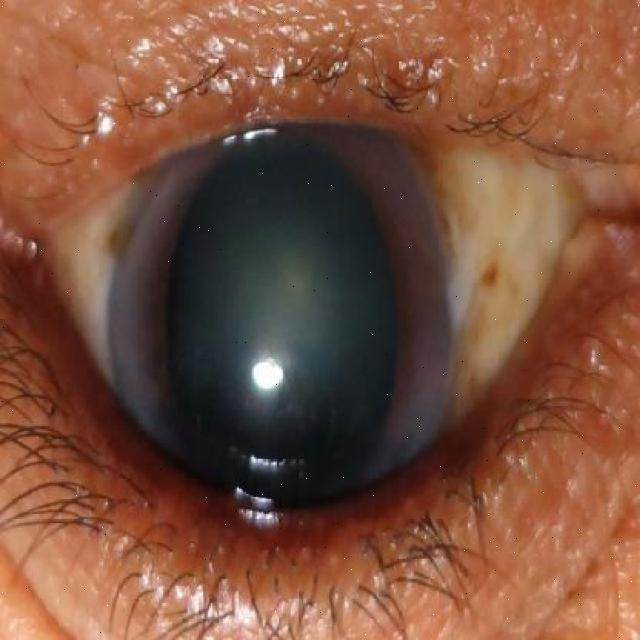Cataract: (112, 90, 452, 561)
